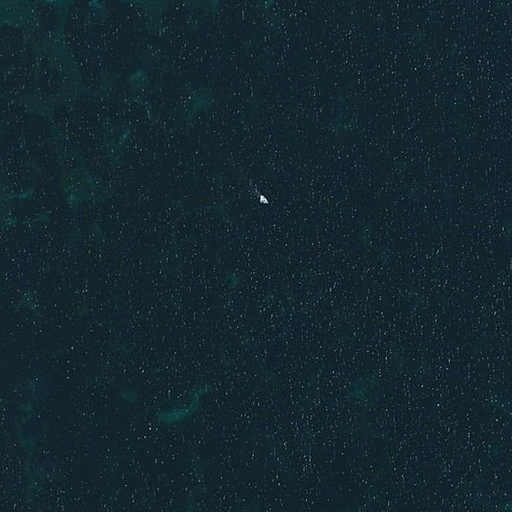ship: (257, 192, 267, 205)
